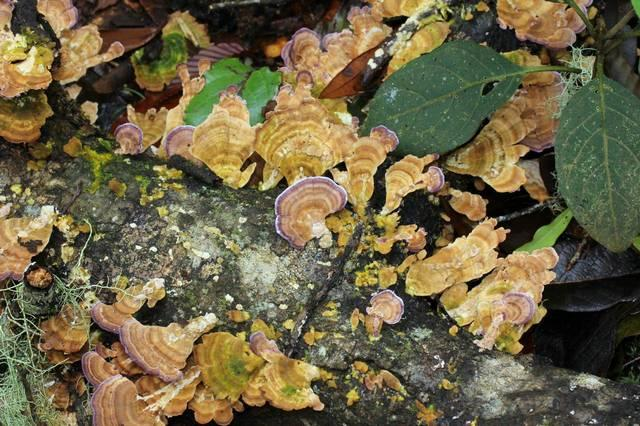poisonous_mushroom: (2, 2, 584, 426), (272, 174, 348, 250)
